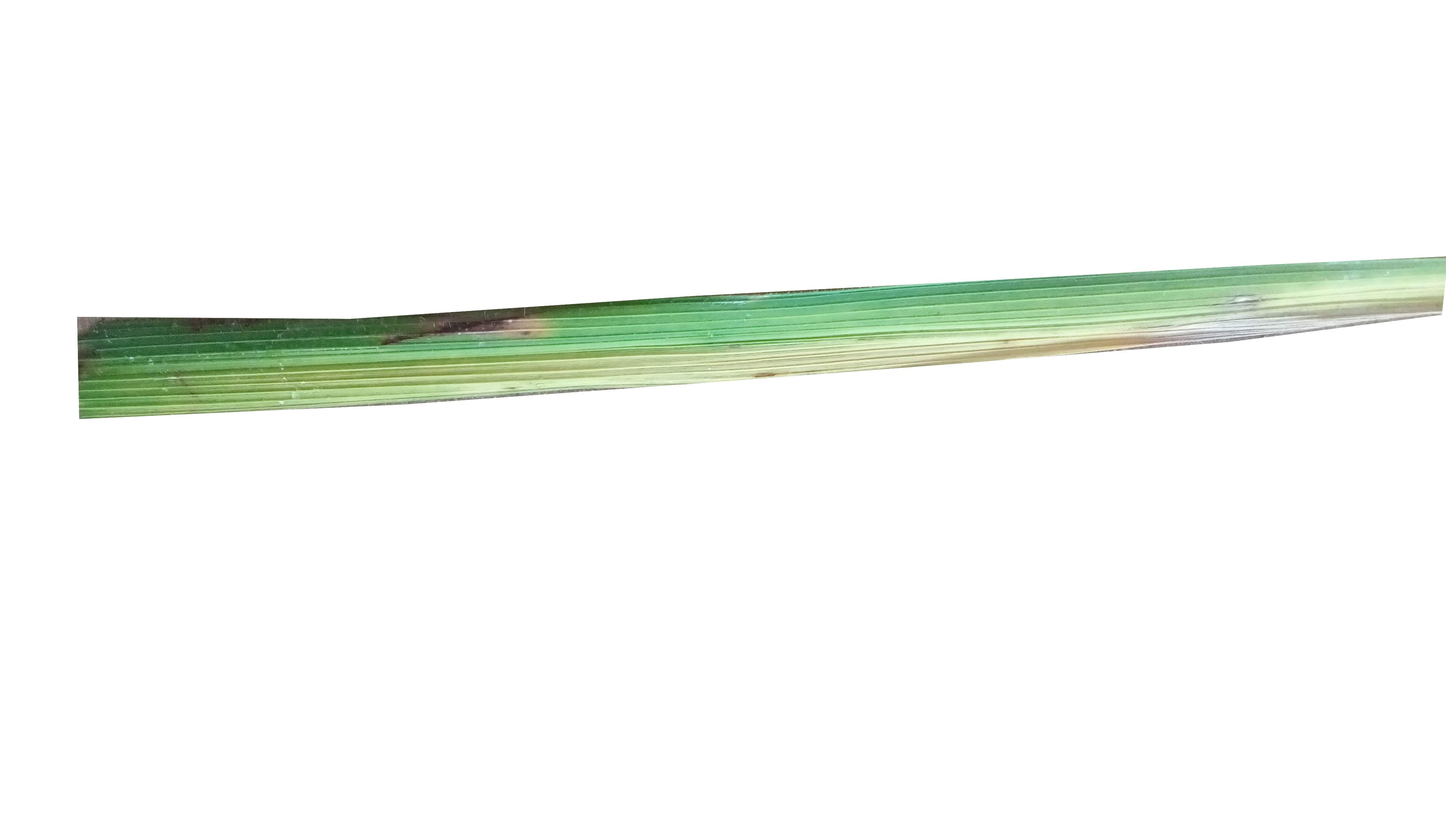Rice blast: (374, 299, 601, 361)
